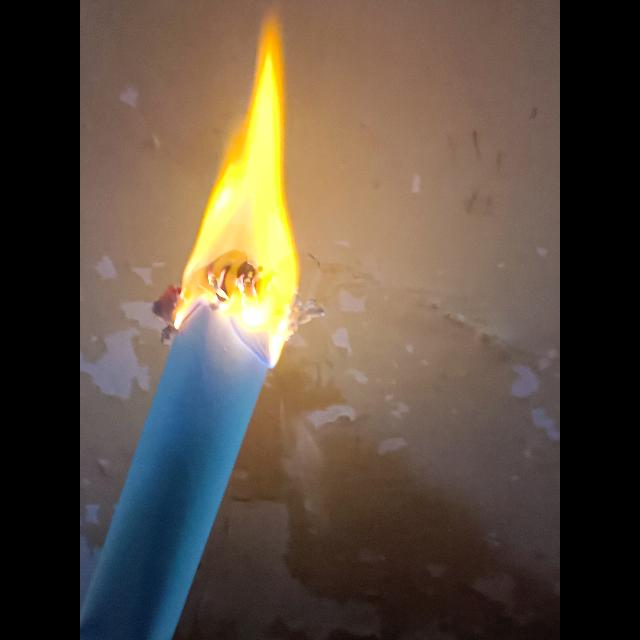fire: (152, 18, 325, 365), (155, 18, 310, 365)
